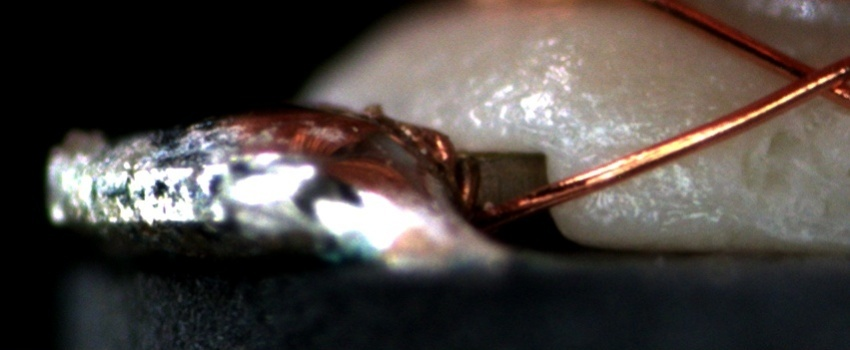CL: (770, 49, 848, 105)
TE: (391, 118, 473, 209)
